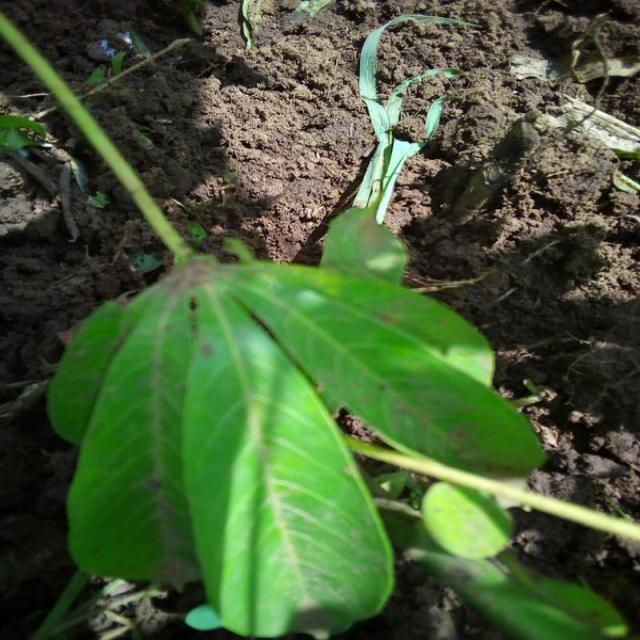cassava leaf: (47, 223, 549, 638)
